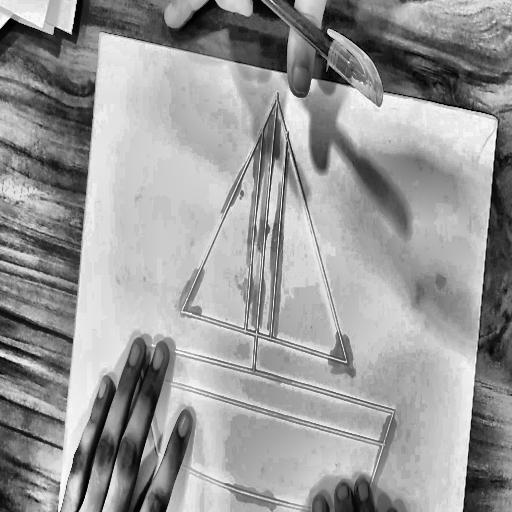boat: (118, 62, 432, 512)
top_left: (96, 25, 105, 39)
top_right: (493, 112, 503, 128)
